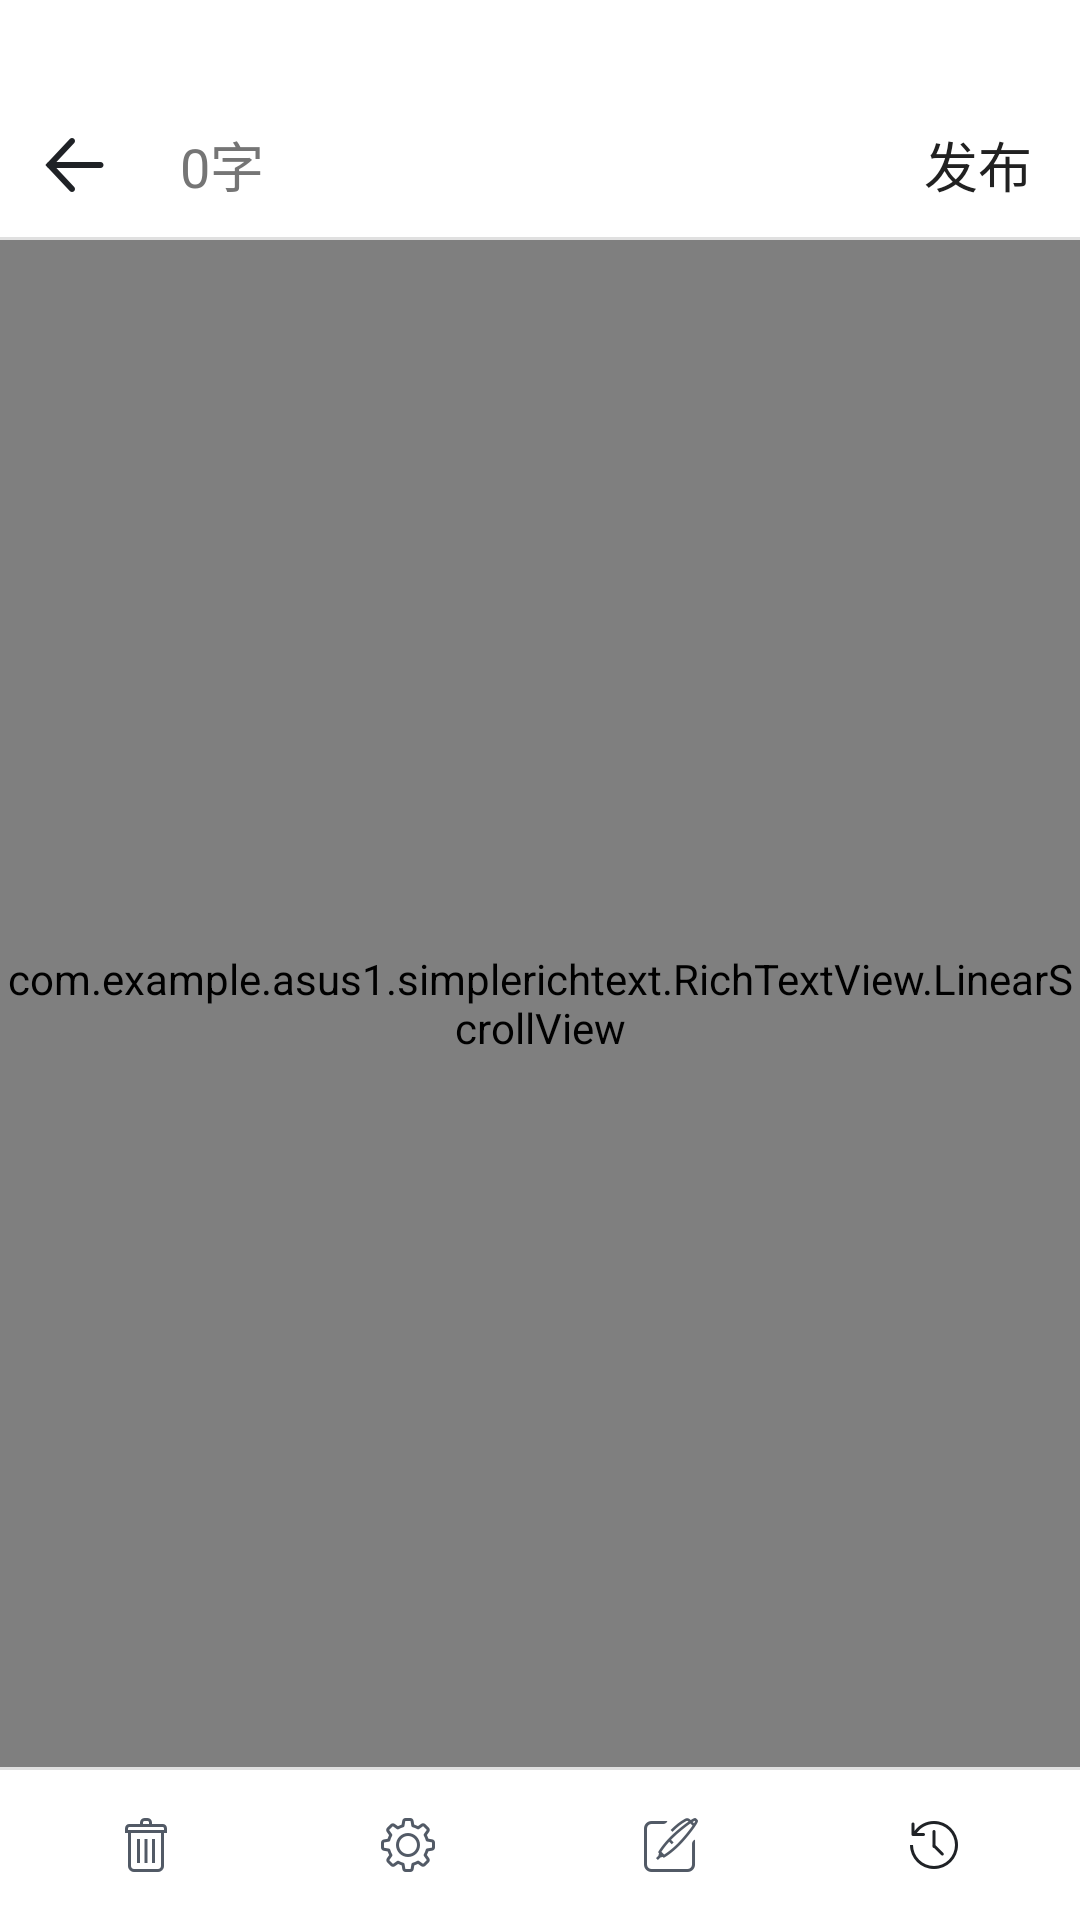

Where to tap for icons on this 1080px x 1920px app screen, as point (x, y):
back: point (74, 165)
bar trash: point (146, 1845)
history: point (934, 1845)
setting: point (408, 1845)
write: point (671, 1845)
